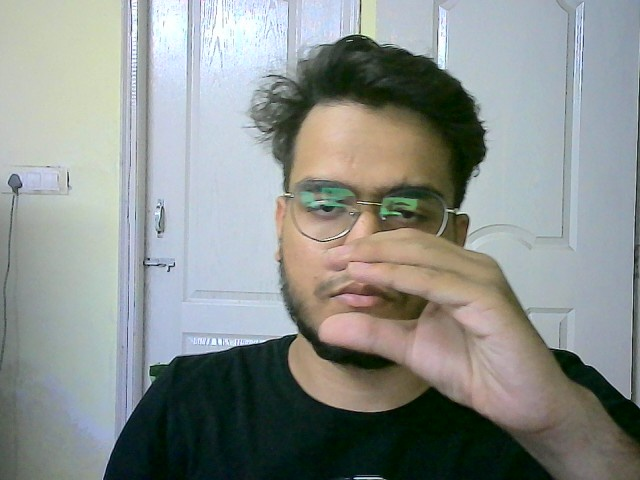No: (314, 234, 575, 422)
